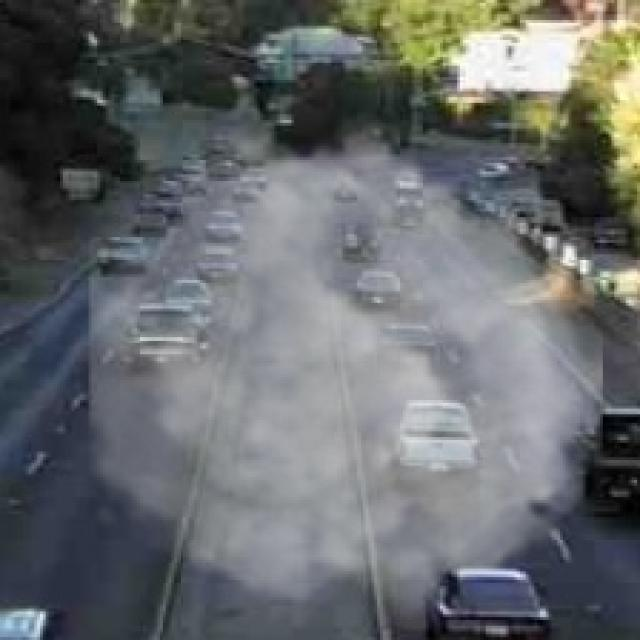Smoke: (88, 105, 603, 638)
